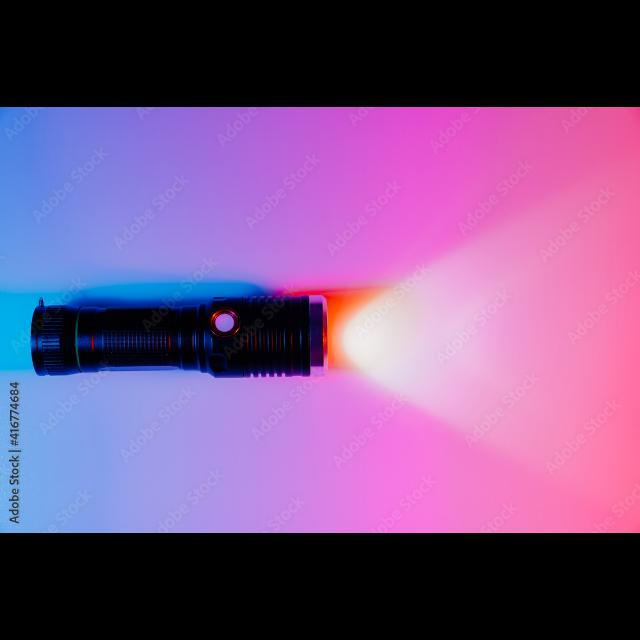Flashlight: (25, 289, 337, 385)
